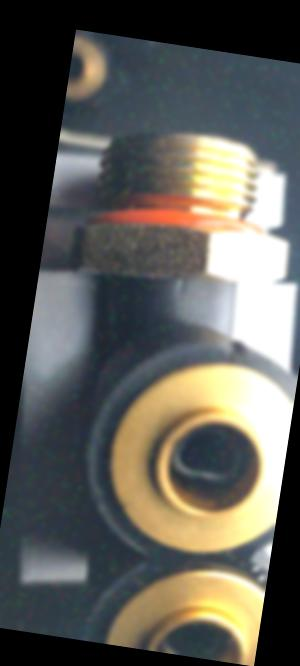bump: (221, 337, 252, 363)
joint line: (173, 292, 186, 324)
off-centered: (165, 418, 255, 508)
white mark: (173, 275, 183, 291)
